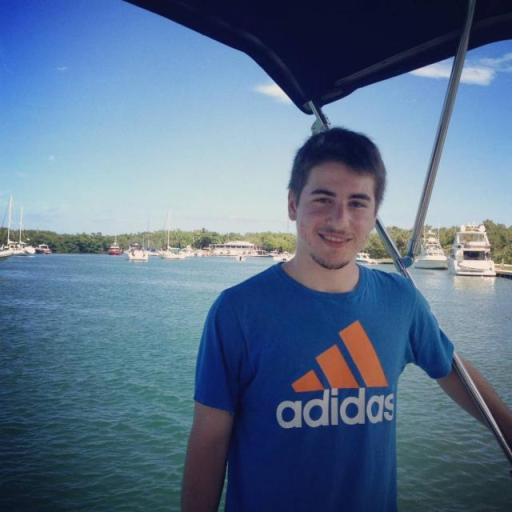Adidas: (273, 320, 395, 428)
